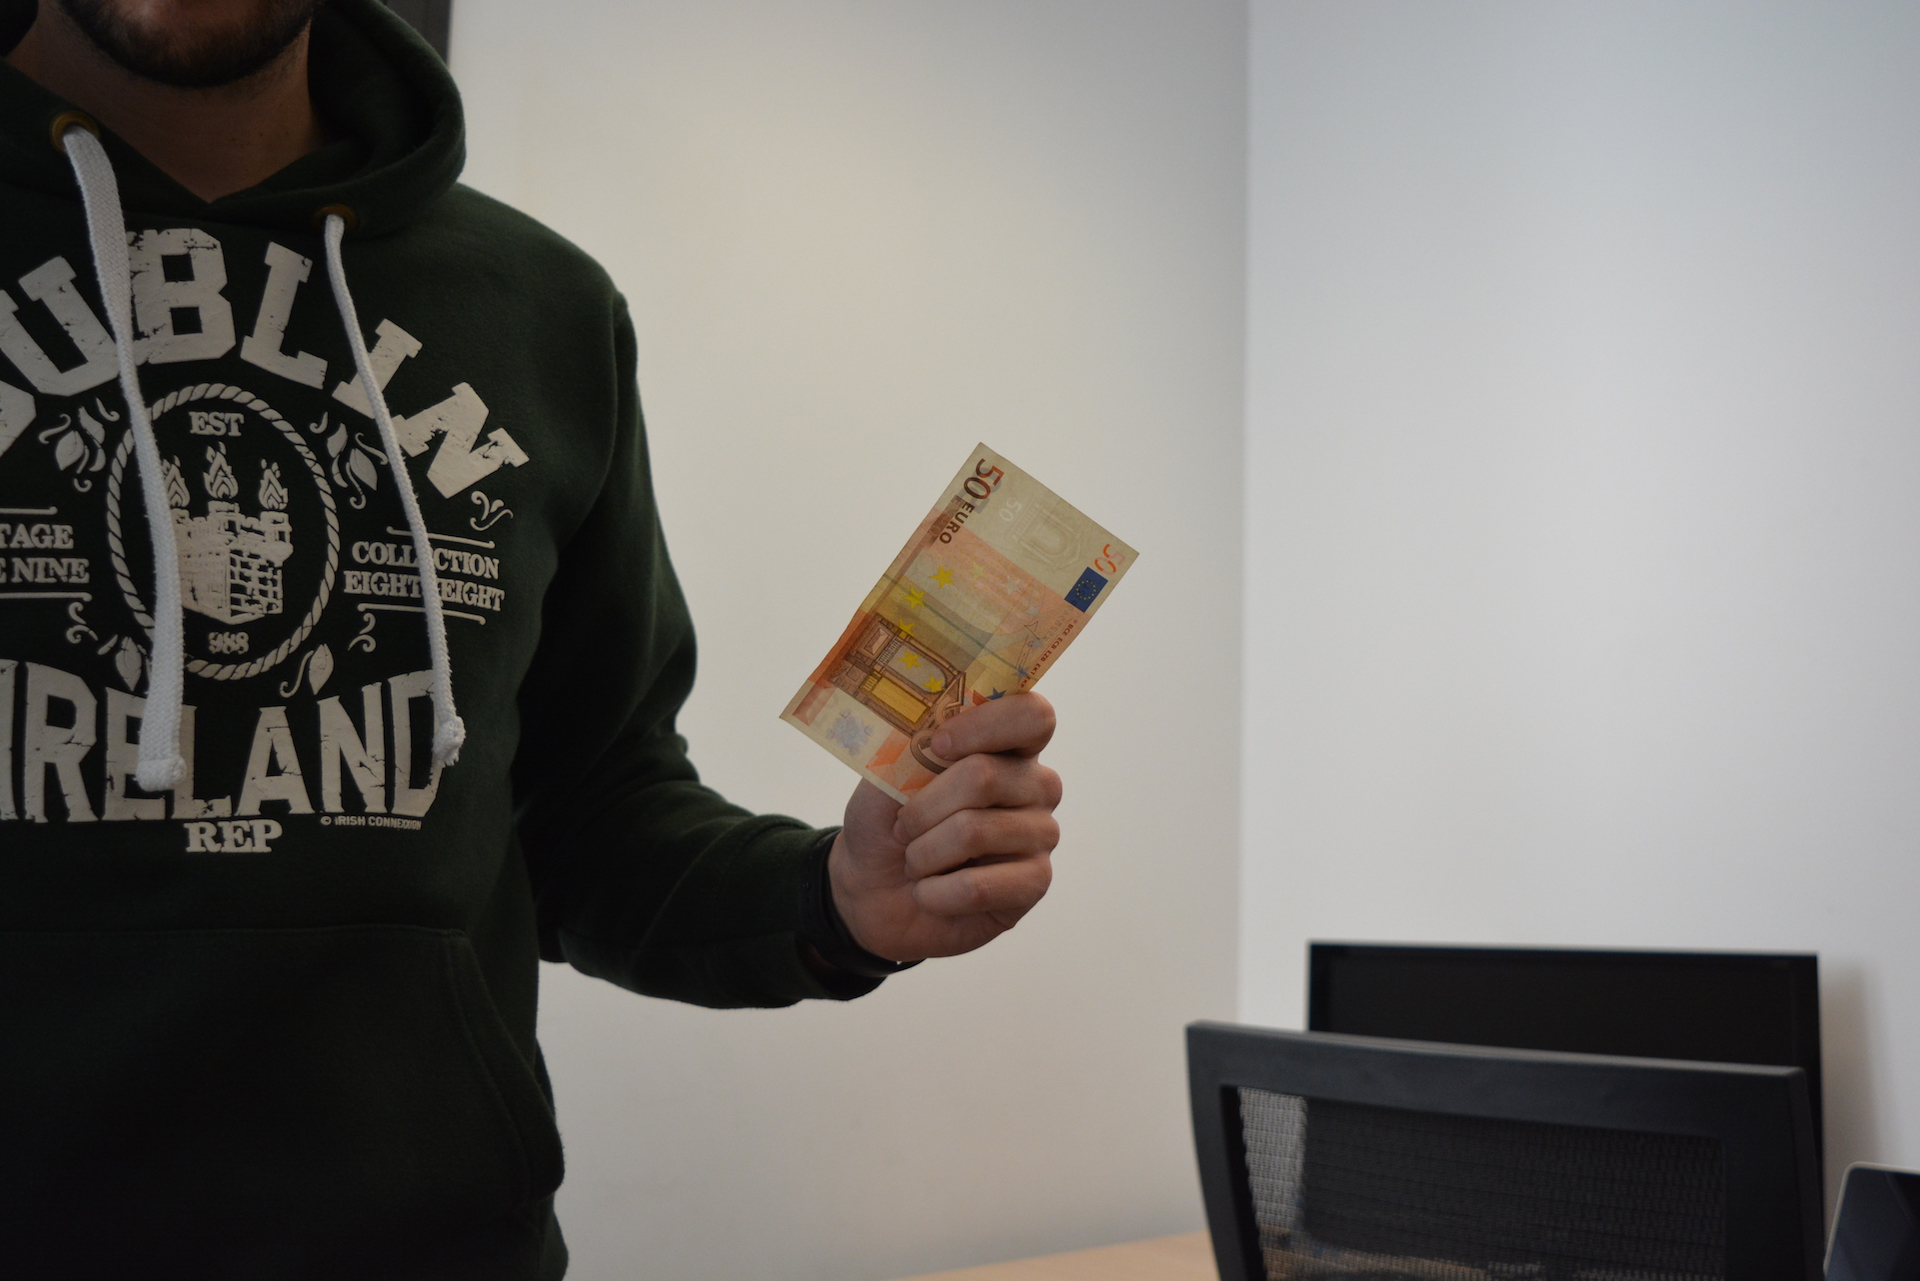billete: (776, 439, 1141, 809)
